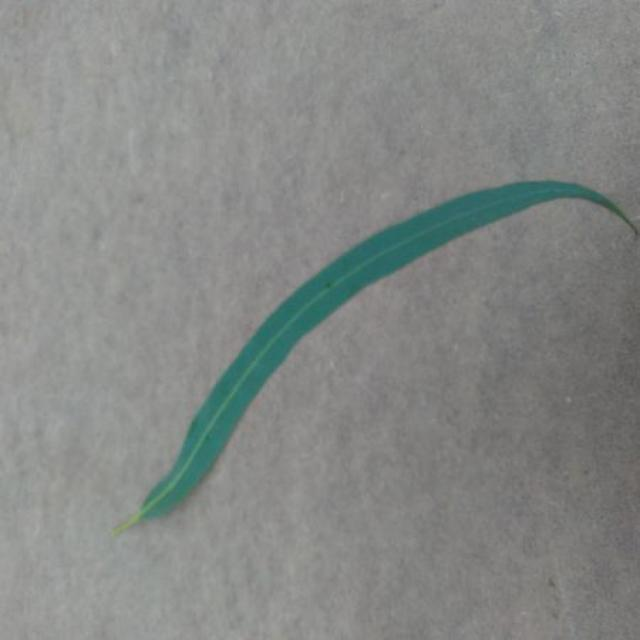eucalpytus: (115, 182, 637, 533)
